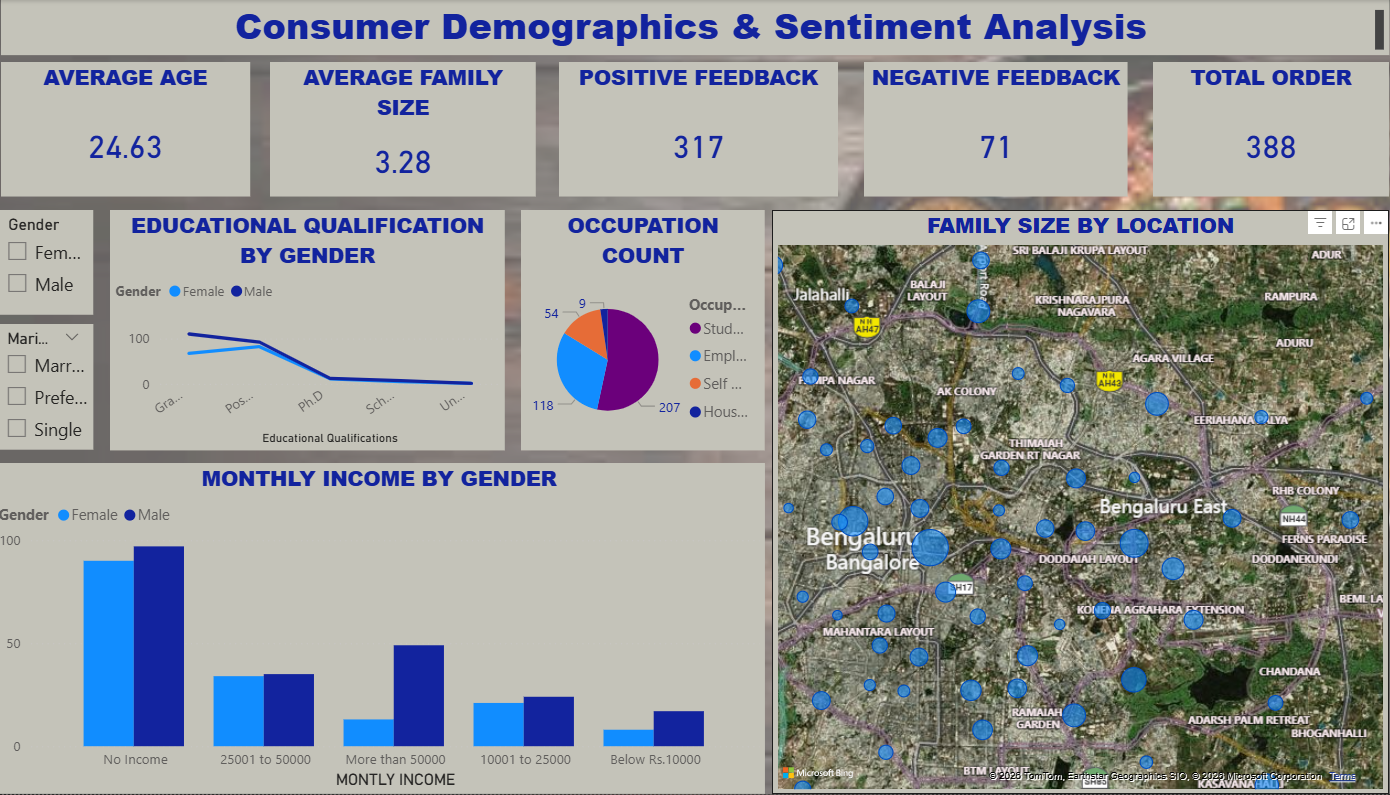

What the dashboard file says about the page in this screenshot:
{"tool":"powerbi","page":{"name":"Page 1","canvas":[1280,720],"ordinal":0},"visuals":[{"type":"card","title":"AVERAGE AGE","fields":{"Values":["Avg(onlinefoods.Age)"]},"box":[7.3,56.2,225.8,122.4],"z":0},{"type":"clusteredColumnChart","title":" MONTHLY INCOME BY GENDER","fields":{"Category":["onlinefoods.Monthly Income"],"Series":["onlinefoods.Gender"],"Y":["Sum(onlinefoods.Count)"]},"box":[0,419.8,700.1,300.2],"z":1000},{"type":"card","title":"AVERAGE FAMILY SIZE","fields":{"Values":["Avg(onlinefoods.Family size)"]},"box":[251.2,56.2,241.2,122.4],"z":2000},{"type":"lineChart","title":"EDUCATIONAL QUALIFICATION BY GENDER","fields":{"Y":["Sum(onlinefoods.Count)"],"Category":["onlinefoods.Educational Qualifications"],"Series":["onlinefoods.Gender"]},"box":[106.1,190.4,358.2,217.6],"z":3000},{"type":"card","title":"POSITIVE FEEDBACK","fields":{"Values":["onlinefoods.Positive Feedback"]},"box":[513.2,56.2,253,122.4],"z":4000},{"type":"card","title":"NEGATIVE FEEDBACK","fields":{"Values":["onlinefoods.Negative Feedback"]},"box":[789.8,56.2,239.4,122.4],"z":5000},{"type":"slicer","fields":{"Values":["onlinefoods.Gender"]},"box":[0.9,190.4,89.8,95.2],"z":6000},{"type":"card","title":"TOTAL ORDER","fields":{"Values":["CountNonNull(onlinefoods.Count)"]},"box":[1051.9,56.2,214,122.4],"z":7000},{"type":"map","title":"FAMILY SIZE BY LOCATION","fields":{"Y":["onlinefoods.latitude"],"X":["onlinefoods.longitude"],"Size":["Sum(onlinefoods.Family size)"]},"box":[706.4,190.4,559.5,529.6],"z":8000},{"type":"slicer","fields":{"Values":["onlinefoods.Marital Status"]},"box":[0,293.8,90.7,114.3],"z":9000},{"type":"pieChart","title":"OCCUPATION COUNT","fields":{"Category":["onlinefoods.Occupation"],"Y":["Sum(onlinefoods.Count)"]},"box":[478.8,190.4,221.3,217.6],"z":10000},{"type":"textbox","box":[7.3,0,1258.6,49.9],"z":10001}]}

Visuals, with their boxes in screenshot pixels (x1, y1, x2, y2), scaled from the page's 1280x720 canvas onto the 1390x795 screenshot:
"AVERAGE AGE" card: bbox=[8, 62, 253, 197]
" MONTHLY INCOME BY GENDER" clusteredColumnChart: bbox=[0, 464, 760, 794]
"AVERAGE FAMILY SIZE" card: bbox=[273, 62, 535, 197]
"EDUCATIONAL QUALIFICATION BY GENDER" lineChart: bbox=[115, 210, 504, 451]
"POSITIVE FEEDBACK" card: bbox=[557, 62, 832, 197]
"NEGATIVE FEEDBACK" card: bbox=[858, 62, 1118, 197]
slicer - onlinefoods.Gender: bbox=[1, 210, 98, 315]
"TOTAL ORDER" card: bbox=[1142, 62, 1375, 197]
"FAMILY SIZE BY LOCATION" map: bbox=[767, 210, 1375, 794]
slicer - onlinefoods.Marital Status: bbox=[0, 324, 98, 451]
"OCCUPATION COUNT" pieChart: bbox=[520, 210, 760, 451]
textbox: bbox=[8, 0, 1375, 55]
